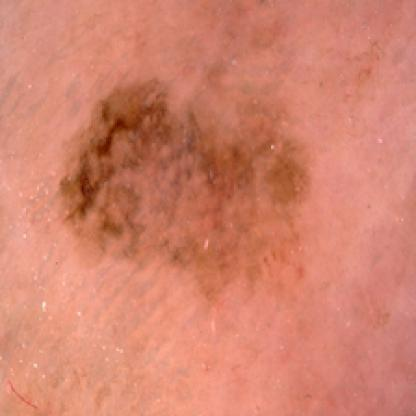malignant: (58, 72, 292, 262)
